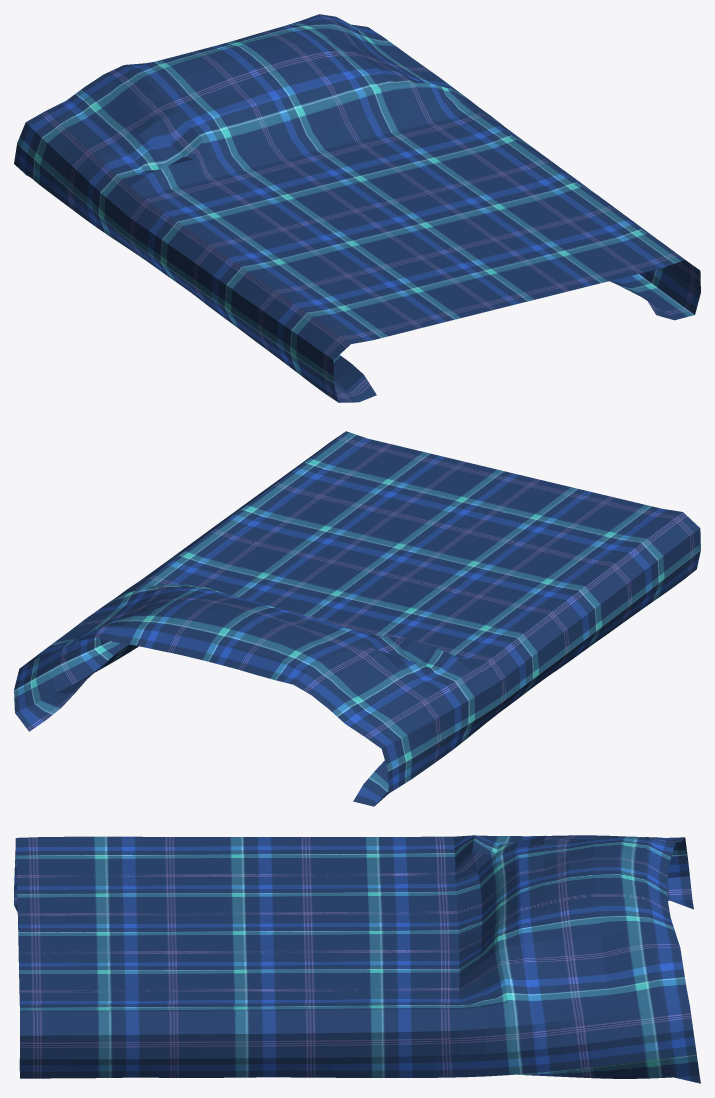
The model's file is tartan.glb.
The picture shows the model from 3 angles, top to bottom: view 1: azimuth 30°, elevation 25°; view 2: azimuth 150°, elevation 25°; view 3: azimuth 270°, elevation 25°; orthographic projection. The views are drawn at different scales.
Visible parts, largest first — view 1: Plane; view 2: Plane; view 3: Plane.
Part boxes in pixels (<box>): Plane: <box>14,14,700,402</box>; Plane: <box>14,431,700,806</box>; Plane: <box>14,835,700,1083</box>.
Bounding box in the file's own units: 1.28 × 0.3778 × 1.89.
1 material, 1 textured.
